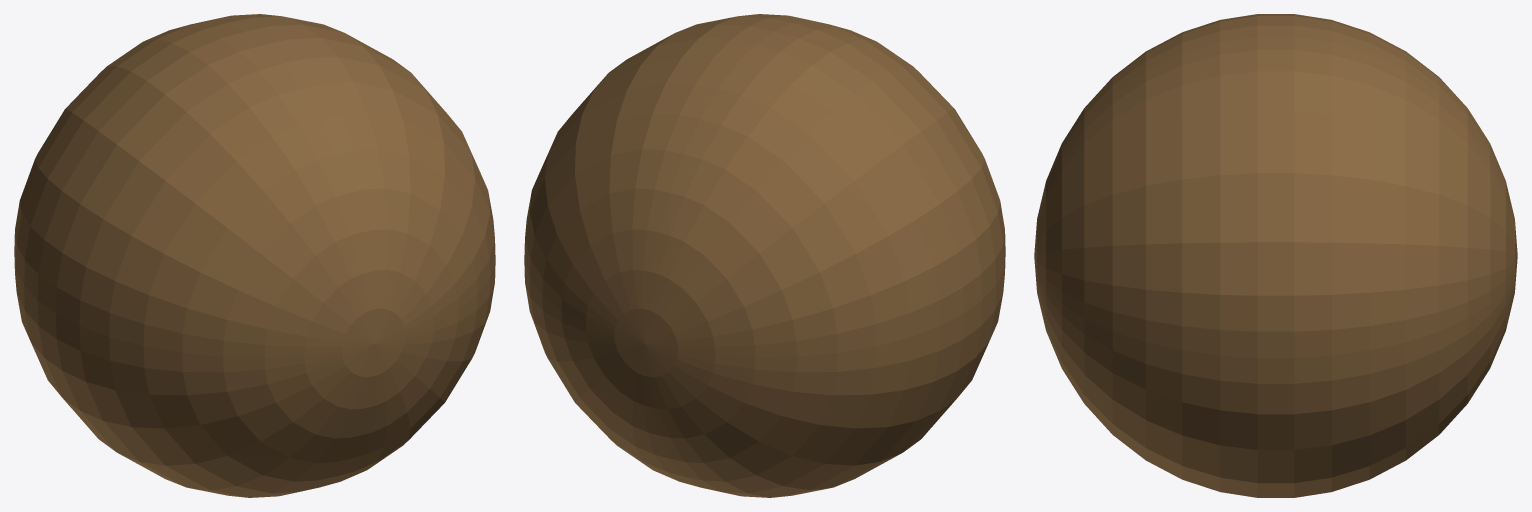
The model's file is RightFingerJoint50y_joint_visu.dae.
The picture shows the model from 3 angles, left to right: view 1: azimuth 30°, elevation 25°; view 2: azimuth 150°, elevation 25°; view 3: azimuth 270°, elevation 25°; orthographic projection.
Visible parts, largest first — view 1: node; view 2: node; view 3: node.
Boxes of the visible parts, x1=… form: node: x1=14, y1=14, x2=495, y2=497; node: x1=524, y1=14, x2=1005, y2=497; node: x1=1034, y1=14, x2=1517, y2=497.
Size of the model in its own units: 0.00808 by 0.00808 by 0.00808.
